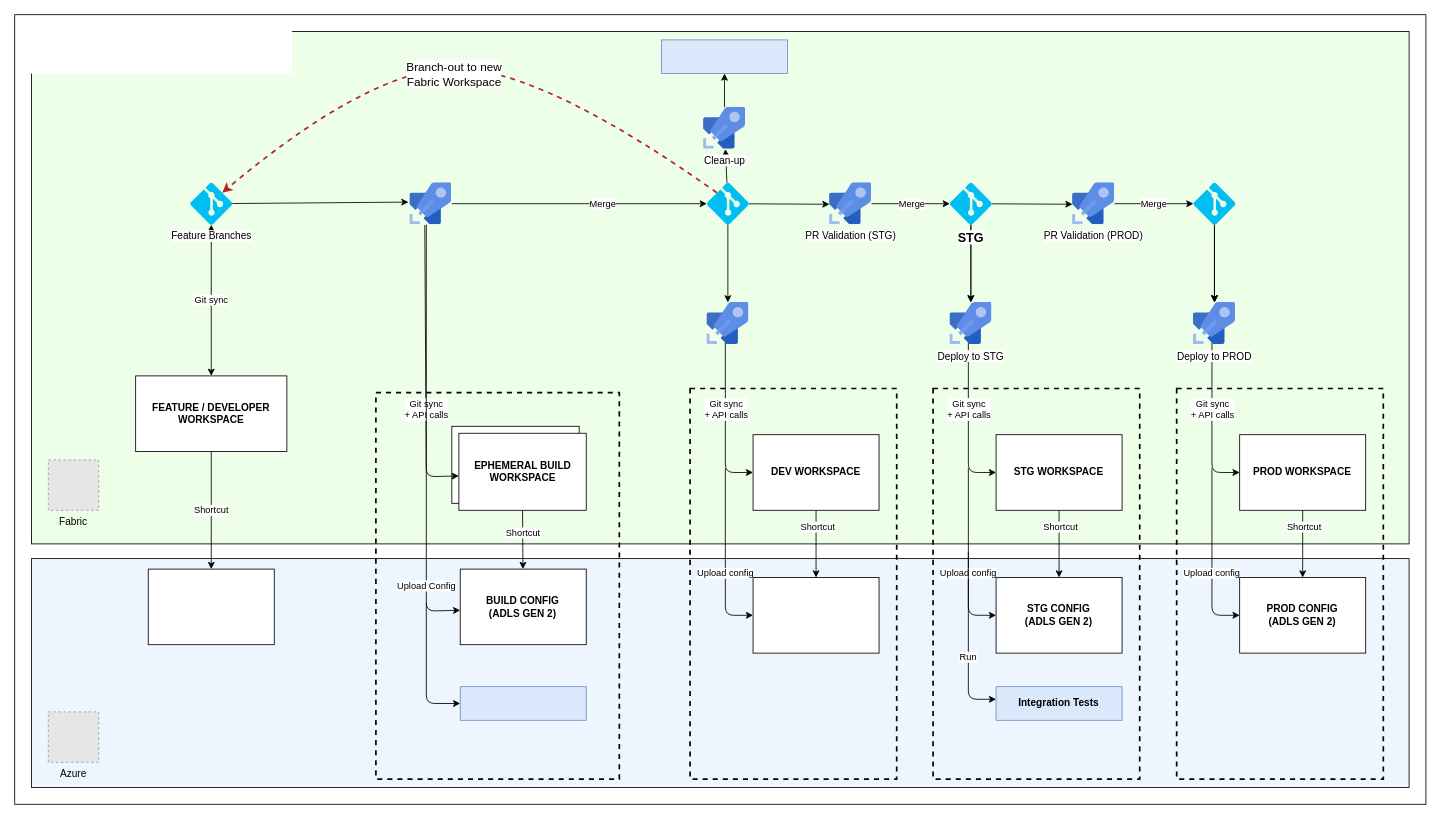
This 1441x819 diagram has some shape labels left out. Grey dashed boxes stand in for pictures. The box of each missing label's shape, as (x1, y1, x2, y2) in pixels:
Build Tests: (459, 686, 586, 720)
Deploy to DEV: (706, 302, 748, 344)
Destroy Ephemeral Build Workspace: (661, 39, 788, 74)
DEV: (706, 182, 748, 224)
DEV CONFIG (ADLS GEN 2): (752, 577, 879, 653)
Option 1: Git-based (Gitflow): (23, 23, 291, 73)
PER DEVELOPER CONFIG (ADLS Gen2 ): (147, 568, 274, 645)
PR Validation: Deploy to Ephemeral Build Workspace: (409, 182, 451, 224)
PROD: (1193, 182, 1235, 224)
